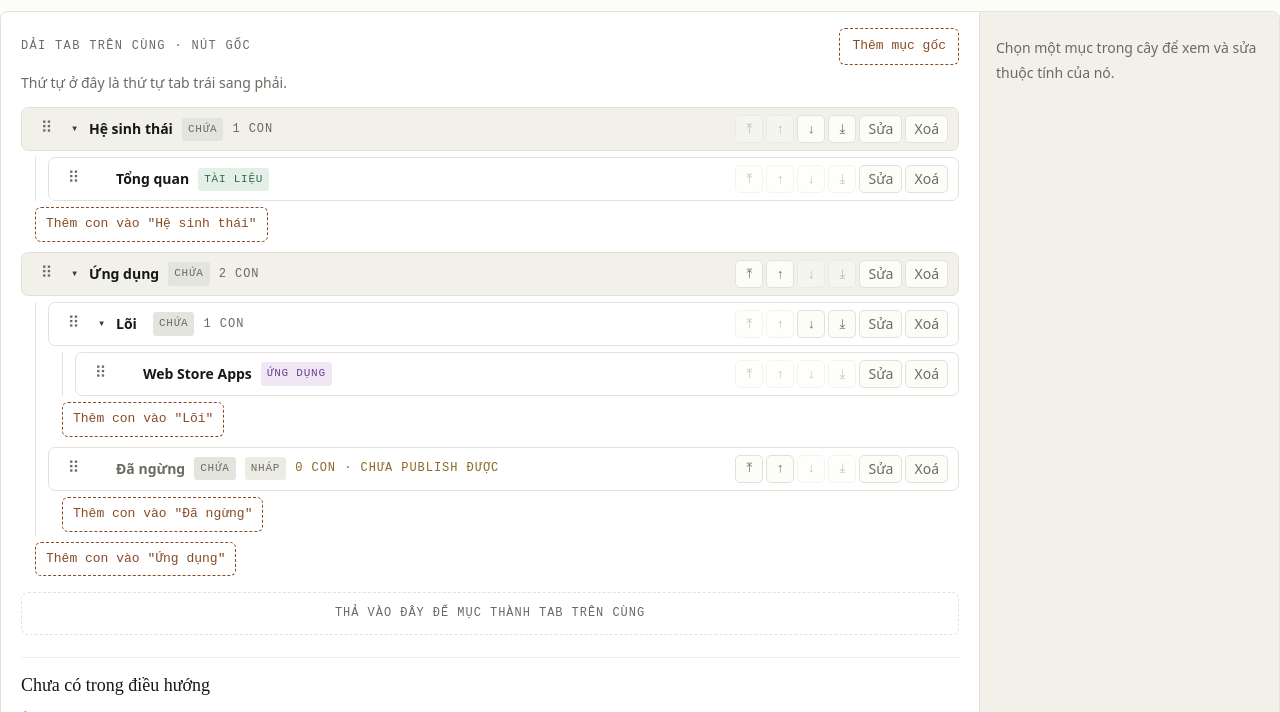
Test case: NavEditor › chọn nút lá thì bảng thuộc tính CÓ ô nội dung — nếu không, phép kiểm trên vô nghĩa
The image size is (1280, 712).
Click the button "Web Store Apps" at [197, 374], box [143, 360, 252, 388]
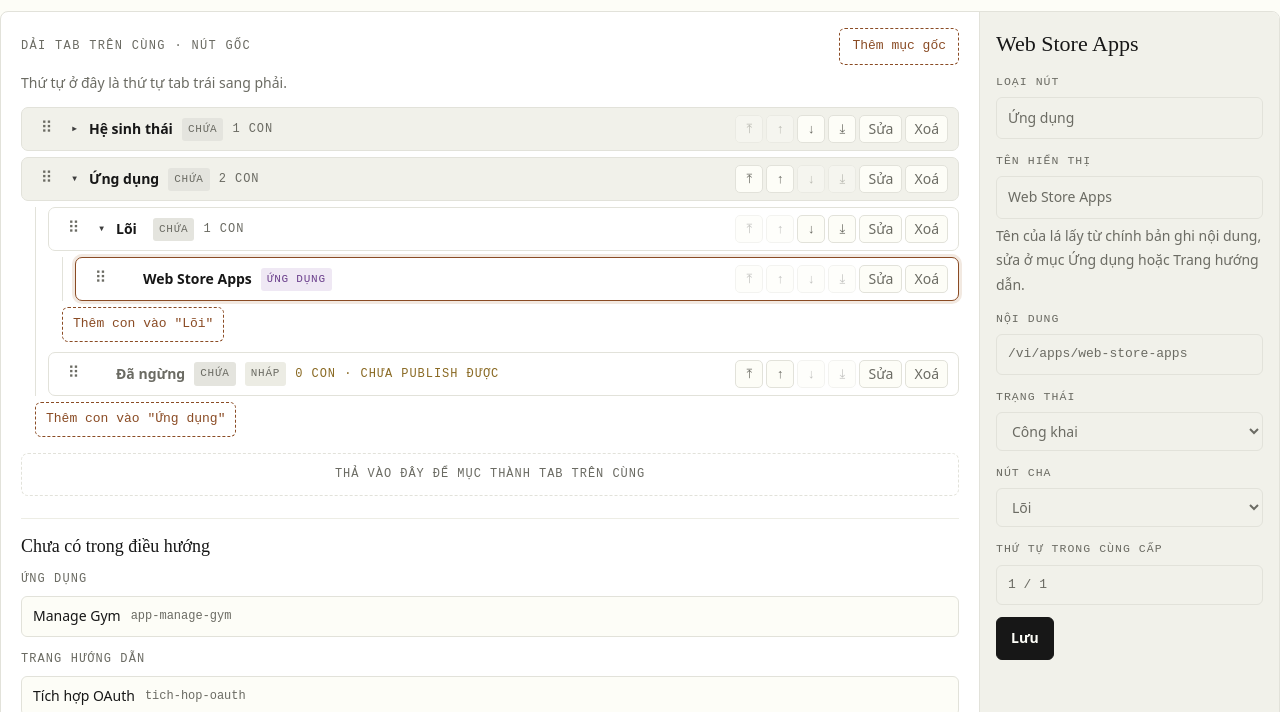
Expected: the field labelled "Nội dung" holds "/vi/apps/web-store-apps", [996, 334, 1263, 375]
